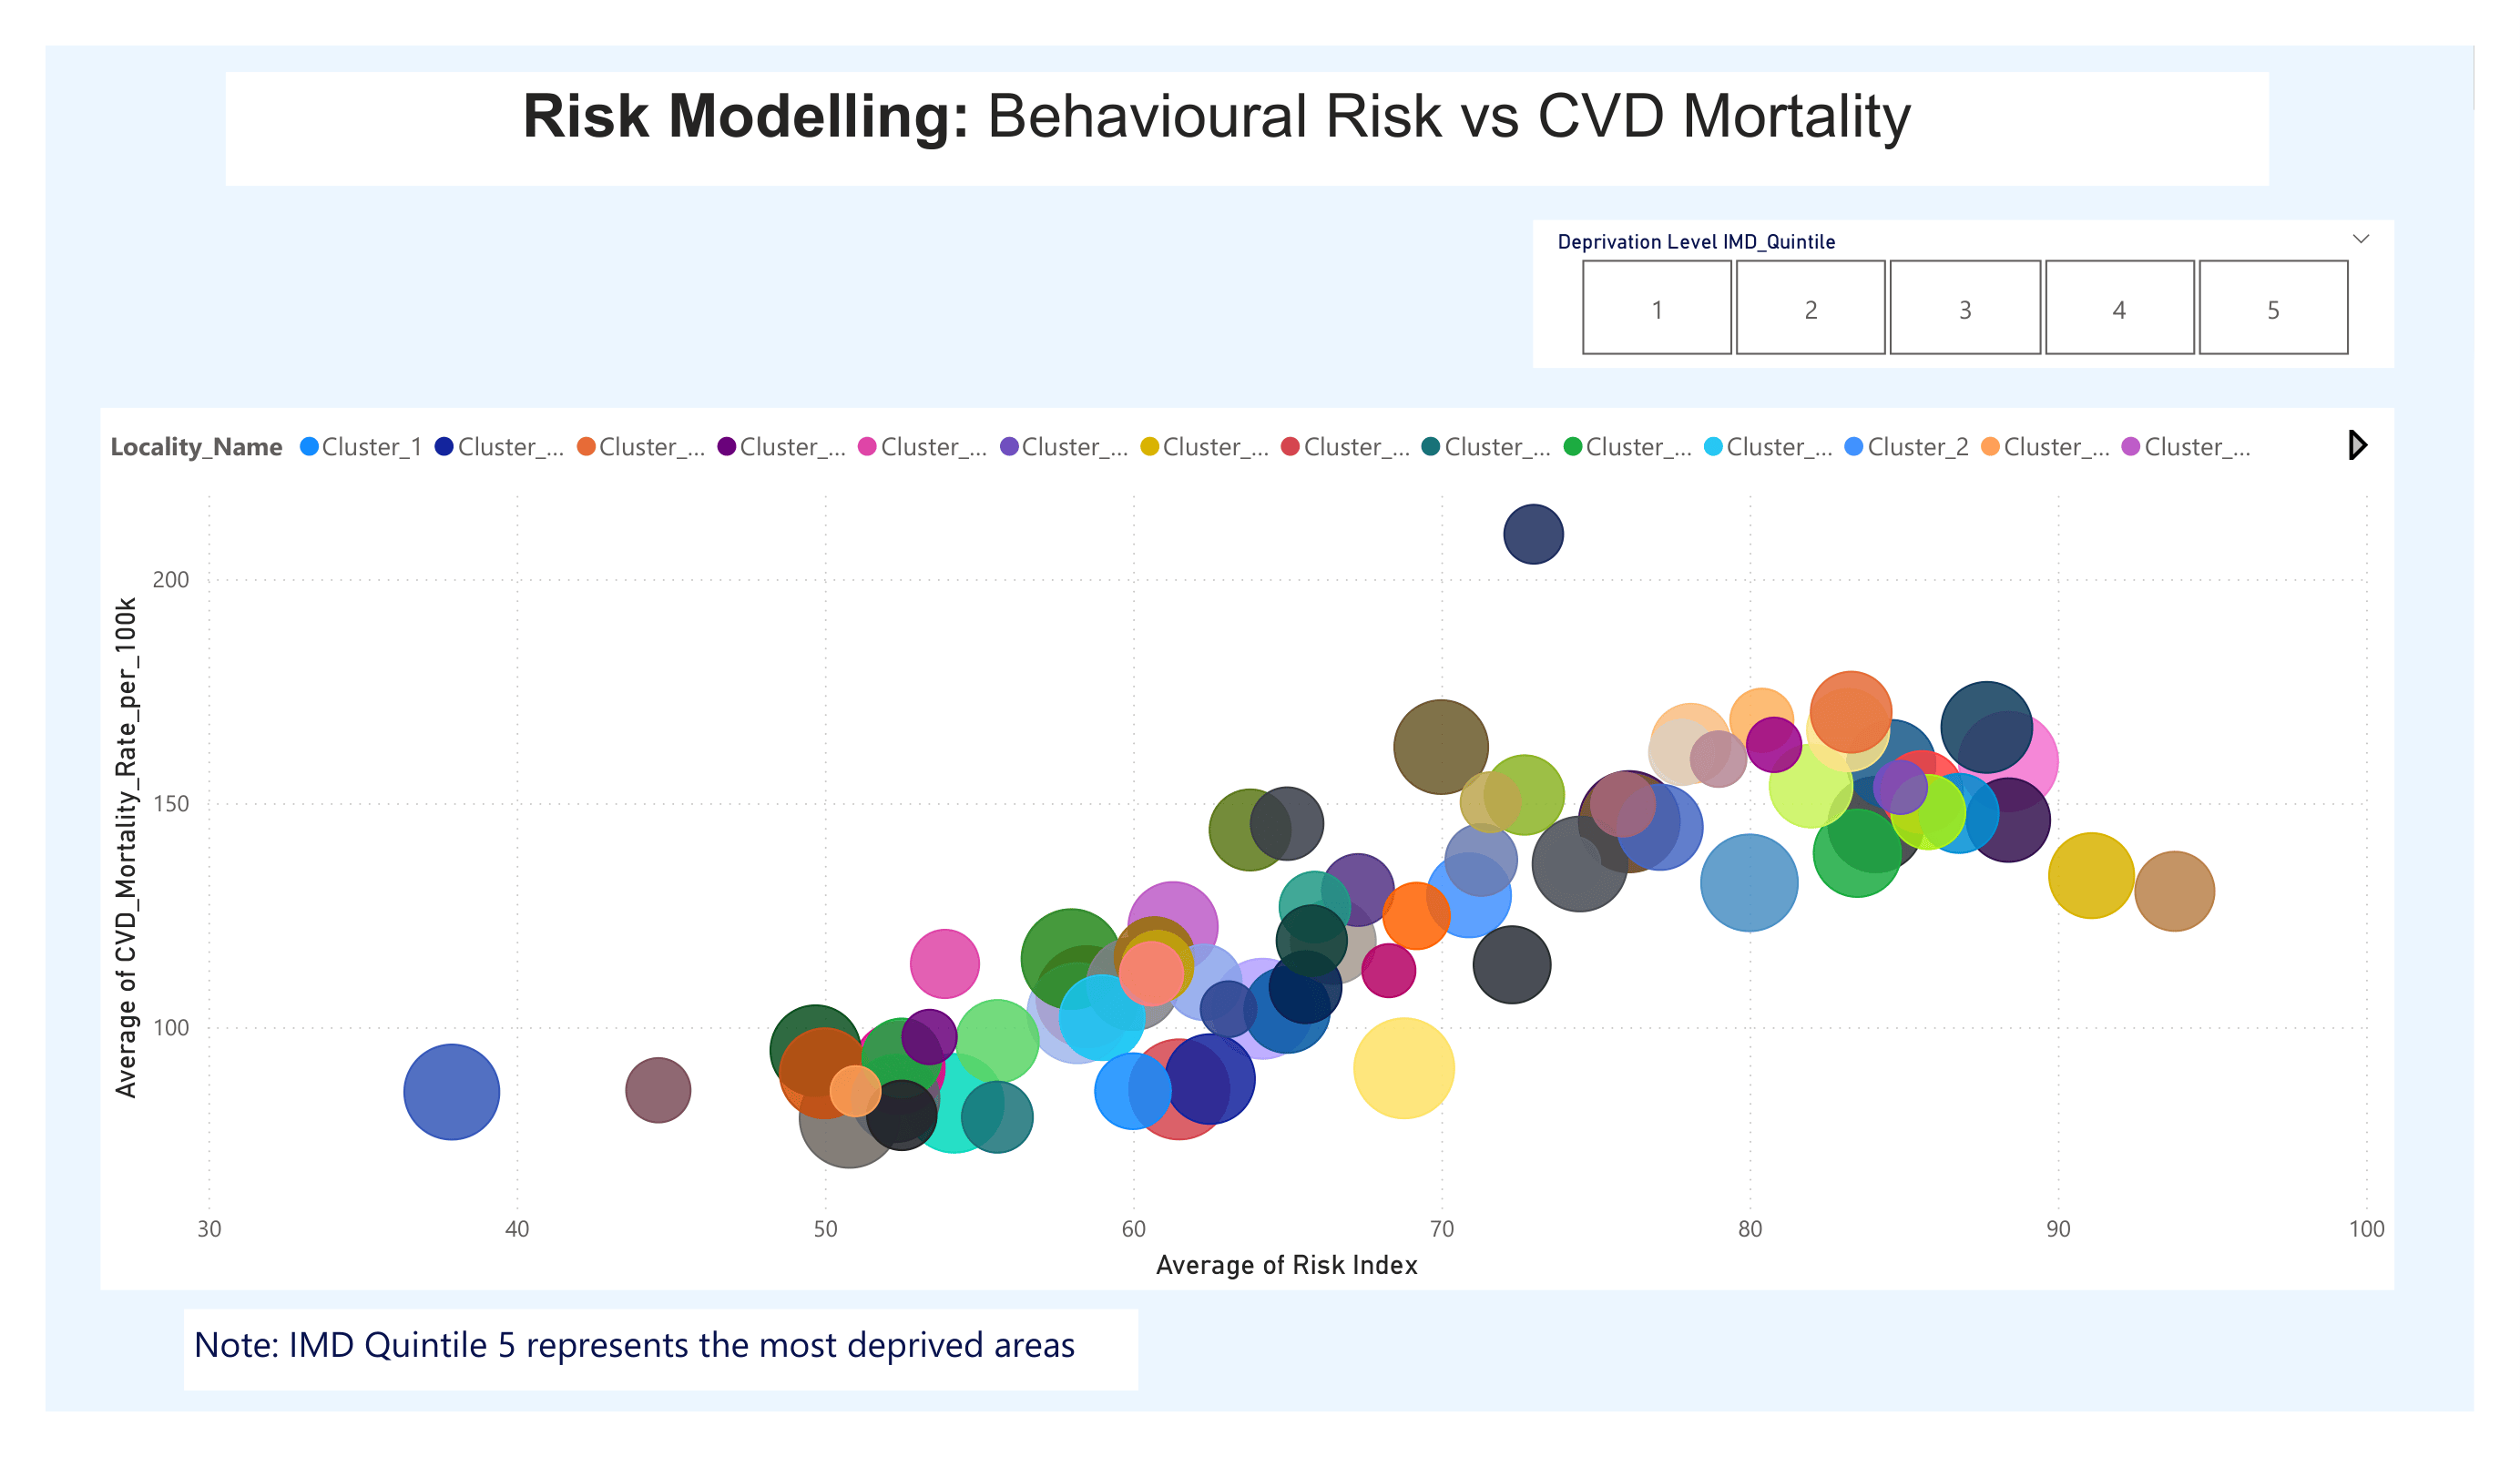

The dashboard page shown, as its layout file describes it:
{"tool":"powerbi","page":{"name":"Risk Modelling","canvas":[1280,720],"ordinal":1},"visuals":[{"type":"scatterChart","fields":{"X":["Avg(cvd_deprivation_messy_dataset.Risk Index)"],"Y":["Avg(cvd_deprivation_messy_dataset.CVD_Mortality_Rate_per_100k)"],"Size":["Avg(cvd_deprivation_messy_dataset.Population_Size)"],"Series":["cvd_deprivation_messy_dataset.Locality_Name"]},"box":[28.8,190.7,1208.9,465.2],"z":0},{"type":"textbox","box":[94.7,13.7,1077.2,60.4],"z":2000},{"type":"slicer","fields":{"Values":["cvd_deprivation_messy_dataset.IMD_Quintile"]},"box":[783.5,91.9,454.2,78.2],"z":3000},{"type":"textbox","box":[72.7,665.5,503.6,43.9],"z":4000}]}

Visuals, with their boxes on the page's 1280x720 design canvas (x1, y1, x2, y2). These are canvas units, not pixel positions in the 2520x1457 screenshot, which may show the page scaled, cropped or inside an application window:
scatterChart - Avg(cvd_deprivation_messy_dataset.Risk Index) x Avg(cvd_deprivation_messy_dataset.CVD_Mortality_Rate_per_100k): <bbox>29, 191, 1238, 656</bbox>
textbox: <bbox>95, 14, 1172, 74</bbox>
slicer - cvd_deprivation_messy_dataset.IMD_Quintile: <bbox>784, 92, 1238, 170</bbox>
textbox: <bbox>73, 666, 576, 709</bbox>
